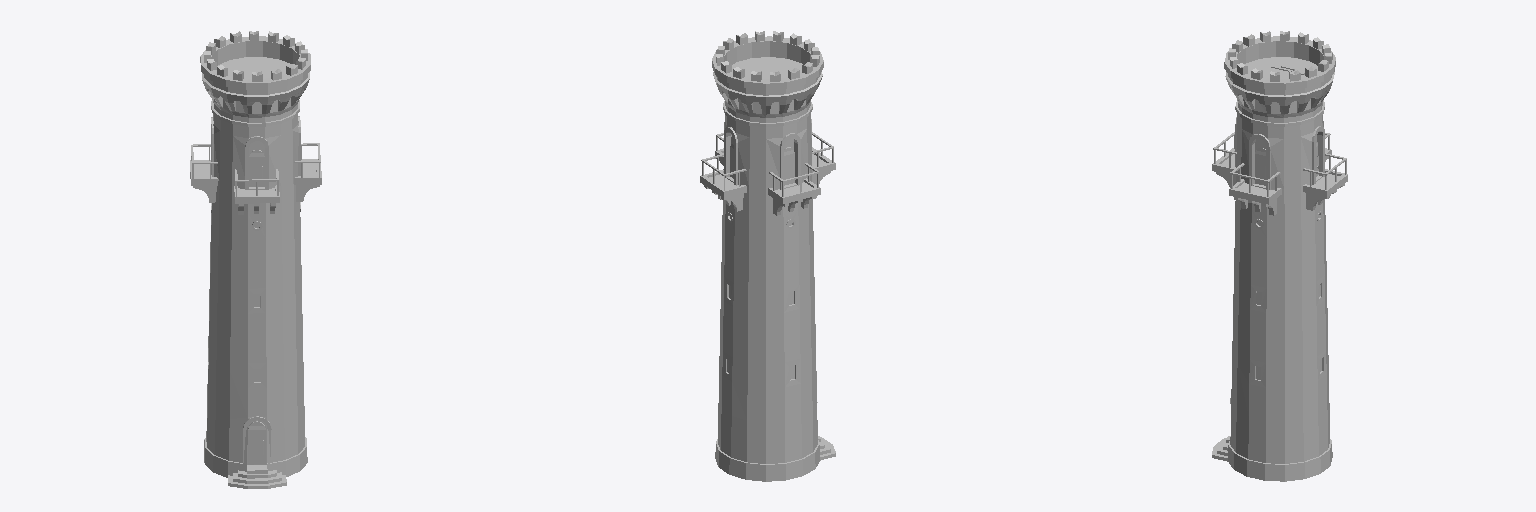
Rendered from tower.obj.
3 views of the same model, side by side, from view 1: azimuth 30°, elevation 25°; view 2: azimuth 150°, elevation 25°; view 3: azimuth 270°, elevation 25° (orthographic).
Visible parts, largest first — view 1: KH_TowerHigh.003_KH_TowerHigh.001; view 2: KH_TowerHigh.003_KH_TowerHigh.001; view 3: KH_TowerHigh.003_KH_TowerHigh.001.
Boxes of the visible parts, <box> form: KH_TowerHigh.003_KH_TowerHigh.001: <box>190,31,321,488</box>; KH_TowerHigh.003_KH_TowerHigh.001: <box>700,31,835,481</box>; KH_TowerHigh.003_KH_TowerHigh.001: <box>1212,31,1347,481</box>.
Size of the model in its own units: 7.29 by 24.03 by 7.33.